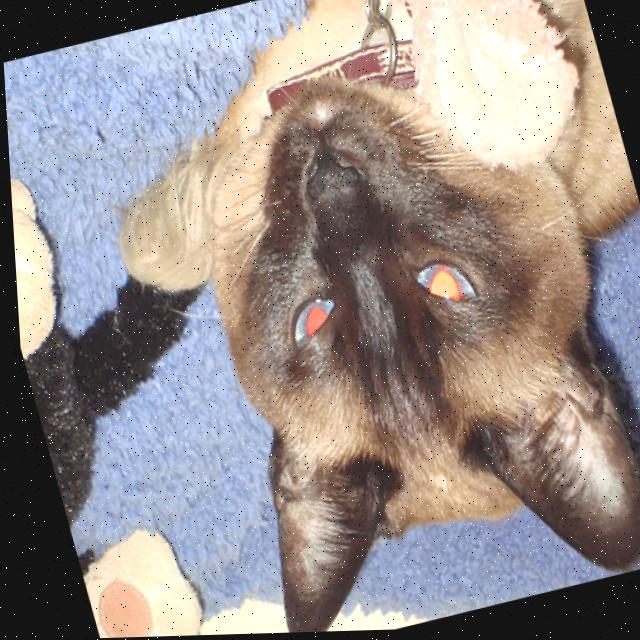Siamese: (117, 0, 640, 637)
